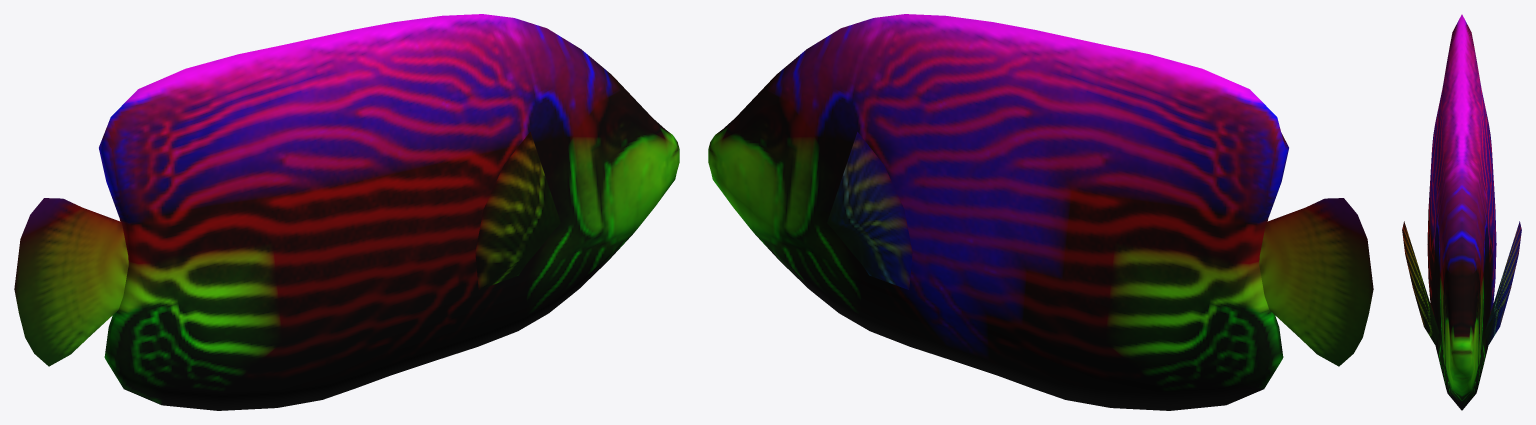
The model's file is emperor_angelfish.glb.
3 renders of one model, left to right at view 1: azimuth 30°, elevation 25°; view 2: azimuth 150°, elevation 25°; view 3: azimuth 270°, elevation 25°, orthographic. The views are drawn at different scales.
Visible parts, largest first — view 1: EmperorAngelfish; view 2: EmperorAngelfish; view 3: EmperorAngelfish.
Part boxes in pixels (x1,y1,x2,y2): EmperorAngelfish: [14, 14, 679, 410]; EmperorAngelfish: [708, 14, 1373, 410]; EmperorAngelfish: [1402, 14, 1521, 410].
Bounding box in the file's own units: 1 × 0.5261 × 0.2062.
1 material, 1 textured.
